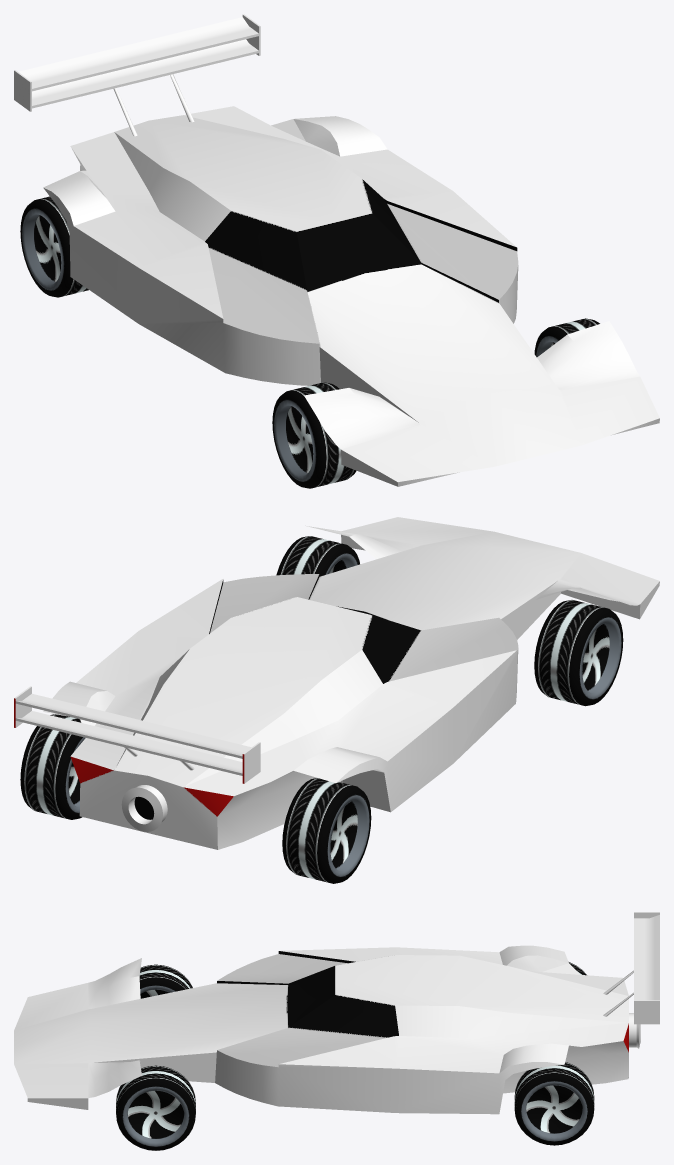
Rendered from muscleCar.fbx.
3 renders of one model, top to bottom at view 1: azimuth 30°, elevation 25°; view 2: azimuth 150°, elevation 25°; view 3: azimuth 270°, elevation 25°, orthographic. The views are drawn at different scales.
Parts seen in each view (by area): view 1: MuscleCar, MuscleTire.001, MuscleTire, MuscleTire.002; view 2: MuscleCar, MuscleTire.001, MuscleTire, MuscleTire.003, MuscleTire.002; view 3: MuscleCar, MuscleTire.002, MuscleTire.003, MuscleTire.001.
Part boxes in pixels (left/top/right/bottom): MuscleCar: left=14, top=14, right=659, bottom=486; MuscleTire.001: left=272, top=382, right=356, bottom=488; MuscleTire: left=20, top=196, right=88, bottom=297; MuscleTire.002: left=534, top=318, right=599, bottom=357; MuscleCar: left=14, top=517, right=659, bottom=849; MuscleTire.001: left=534, top=600, right=623, bottom=706; MuscleTire: left=282, top=778, right=371, bottom=883; MuscleTire.003: left=20, top=714, right=85, bottom=819; MuscleTire.002: left=276, top=536, right=359, bottom=576; MuscleCar: left=14, top=912, right=659, bottom=1114; MuscleTire.002: left=116, top=1065, right=195, bottom=1150; MuscleTire.003: left=514, top=1062, right=594, bottom=1145; MuscleTire.001: left=139, top=964, right=192, bottom=998.
Size of the model in its own units: 147 by 76.06 by 324.
Materials: 5 (5 with a texture image).
